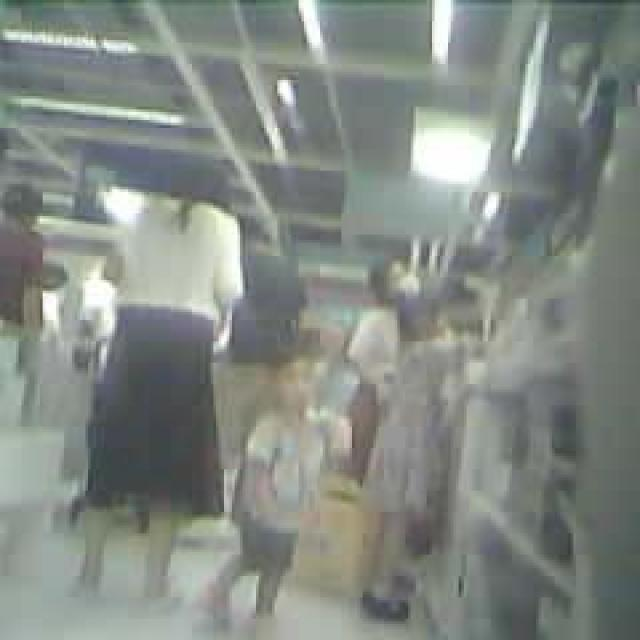person: (70, 171, 244, 608), (357, 306, 480, 618), (194, 352, 322, 608), (345, 258, 412, 456), (232, 210, 318, 354), (0, 181, 48, 336)
